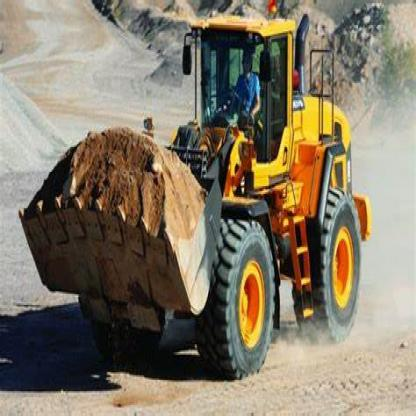bull_dozer/loader/grader: (15, 13, 376, 378)
